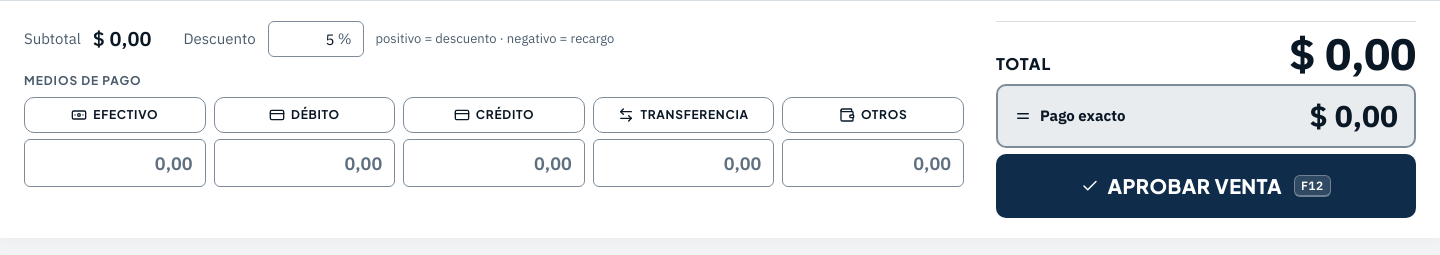
Test: PaymentPanel — descuento › texto ilegible revierte al último valor válido
Replace the text in the field labelled "Descuento" with "abc". click: x=316, y=39
box: [268,21,364,57]
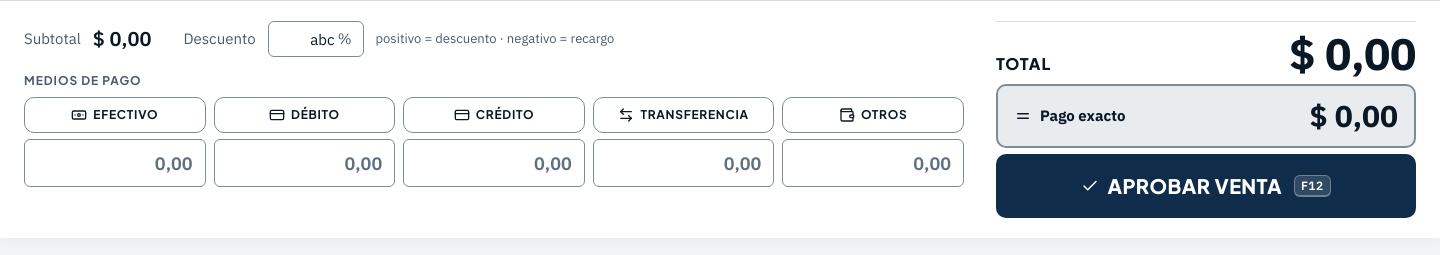
Leave the field labelled "Descuento", box [268,21,364,57]
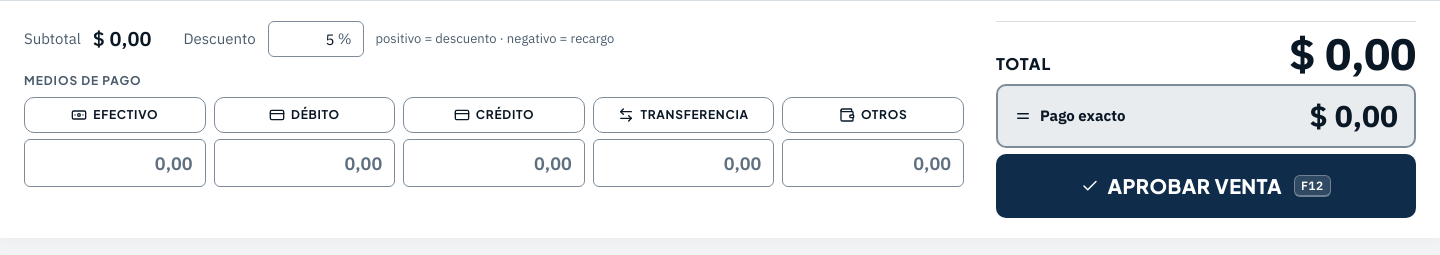
Check: the field labelled "Descuento" holds "5", box [268,21,364,57]
